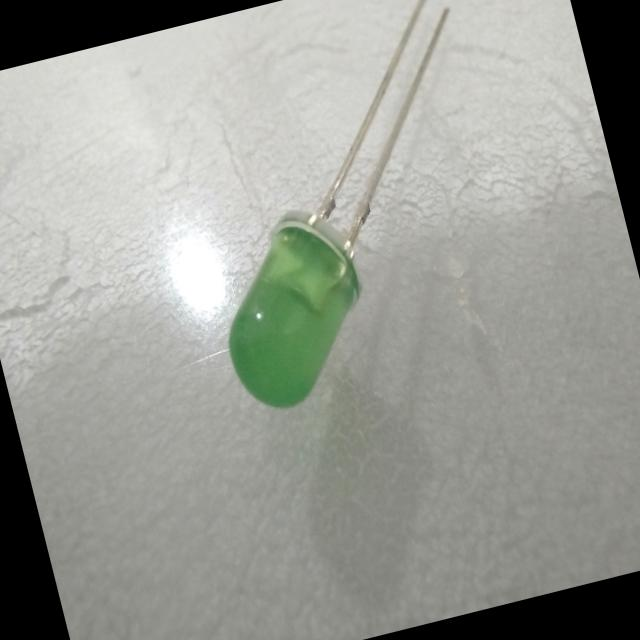green_led: (180, 182, 398, 434)
